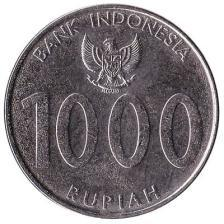coin_1000_e2010: (0, 1, 218, 220)
